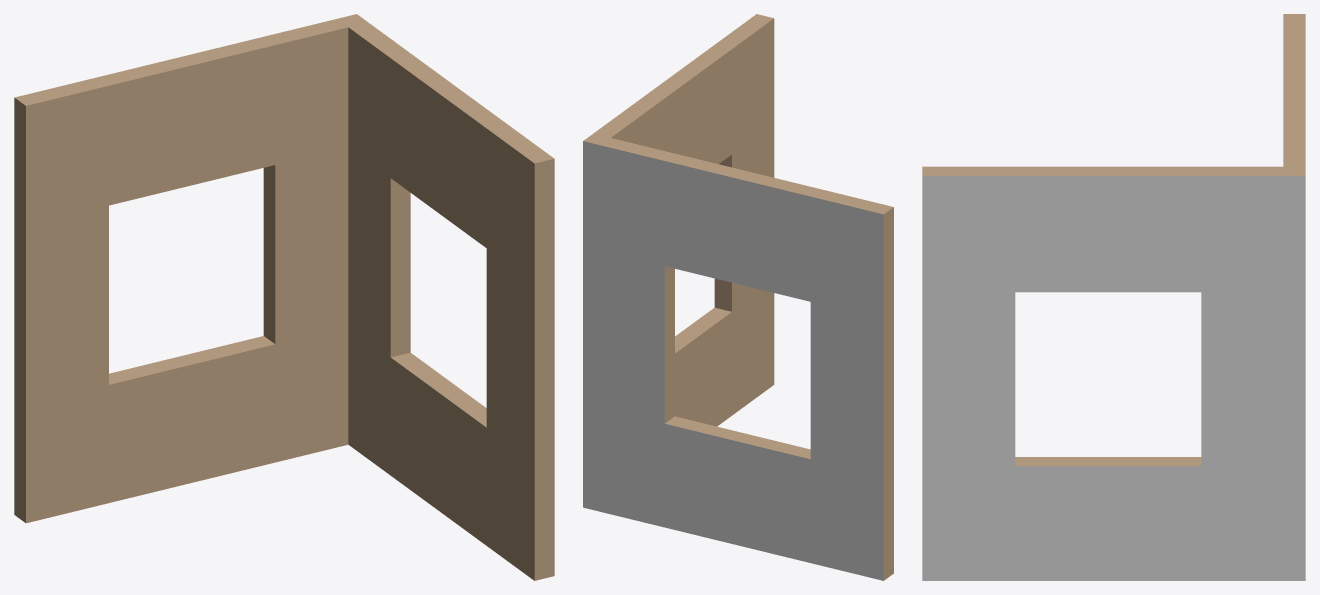
File: Wall1_C2_12.fbx
3 renders of one model, left to right at view 1: azimuth 30°, elevation 25°; view 2: azimuth 150°, elevation 25°; view 3: azimuth 270°, elevation 25°, orthographic. The views are drawn at different scales.
Visible parts, largest first — view 1: Wall1_C2_12; view 2: Wall1_C2_12; view 3: Wall1_C2_12.
Boxes of the visible parts, bbox=[...] form: Wall1_C2_12: bbox=[14, 14, 554, 580]; Wall1_C2_12: bbox=[583, 14, 893, 580]; Wall1_C2_12: bbox=[922, 14, 1305, 580].
Bounding box in the file's own units: 258 × 300 × 258.
